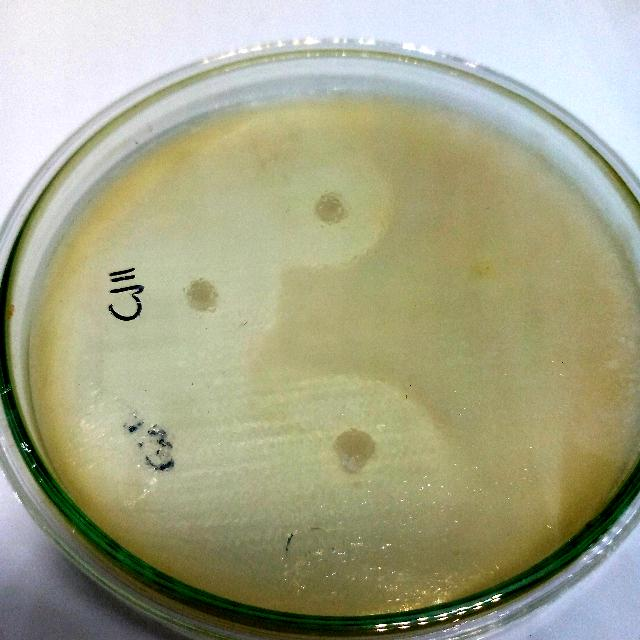colony: (330, 423, 384, 482), (309, 188, 353, 230), (180, 275, 222, 315)
